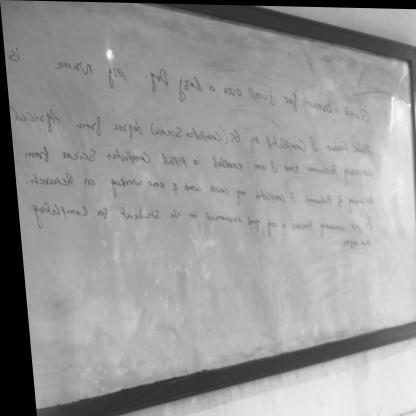Handwritten text: (0, 32, 376, 150), (3, 97, 373, 170), (13, 136, 374, 193), (23, 195, 347, 252), (19, 169, 377, 214)
